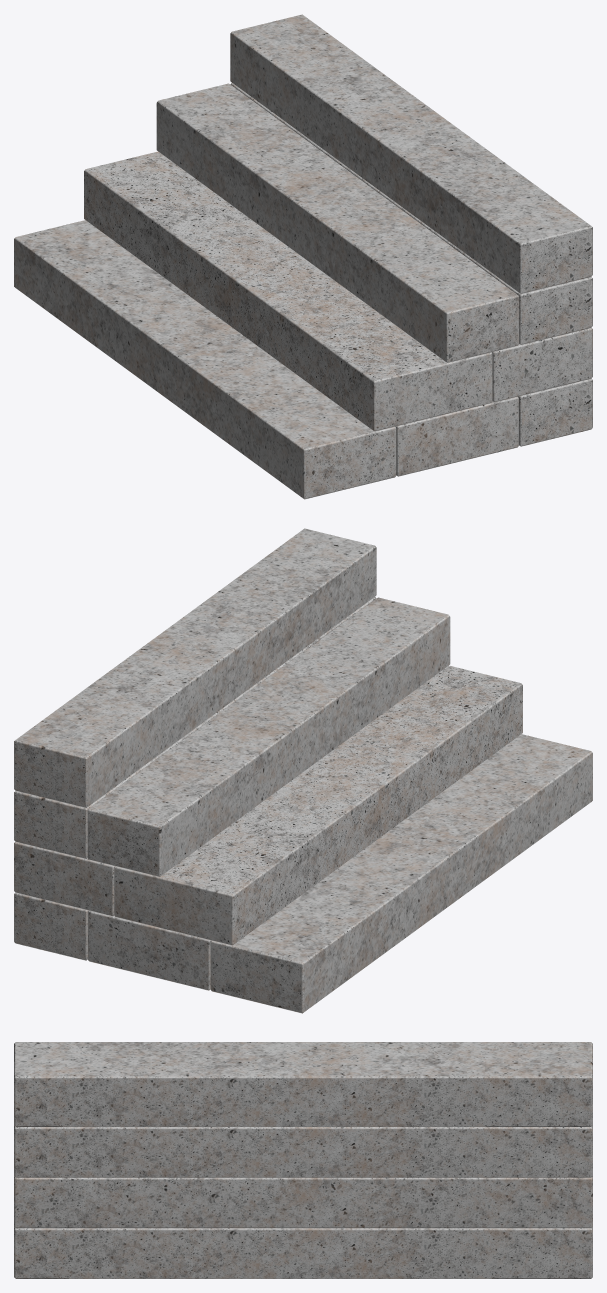
Rendered from SM_Stair01B.fbx.
The picture shows the model from 3 angles, top to bottom: view 1: azimuth 30°, elevation 25°; view 2: azimuth 150°, elevation 25°; view 3: azimuth 270°, elevation 25°; orthographic projection.
Parts seen in each view (by area): view 1: SM_Stair01B; view 2: SM_Stair01B; view 3: SM_Stair01B.
Boxes of the visible parts, x1,y1,x2,y2 form: SM_Stair01B: (14, 14, 592, 499); SM_Stair01B: (14, 528, 592, 1013); SM_Stair01B: (14, 1042, 592, 1278).
Bounding box in the file's own units: 142 × 246 × 95.11.
1 material, 1 textured.
